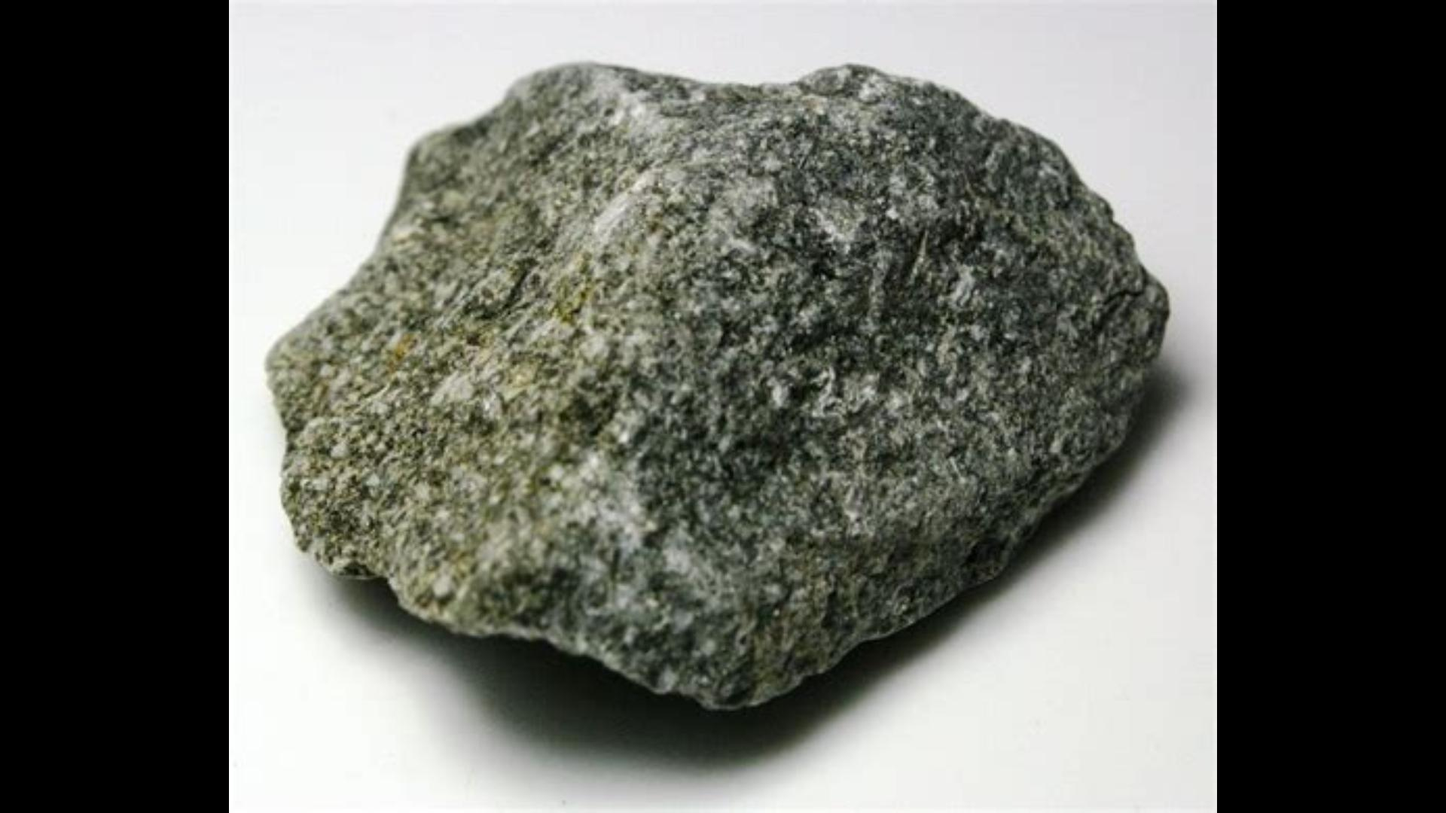rock: (266, 65, 1165, 705)
